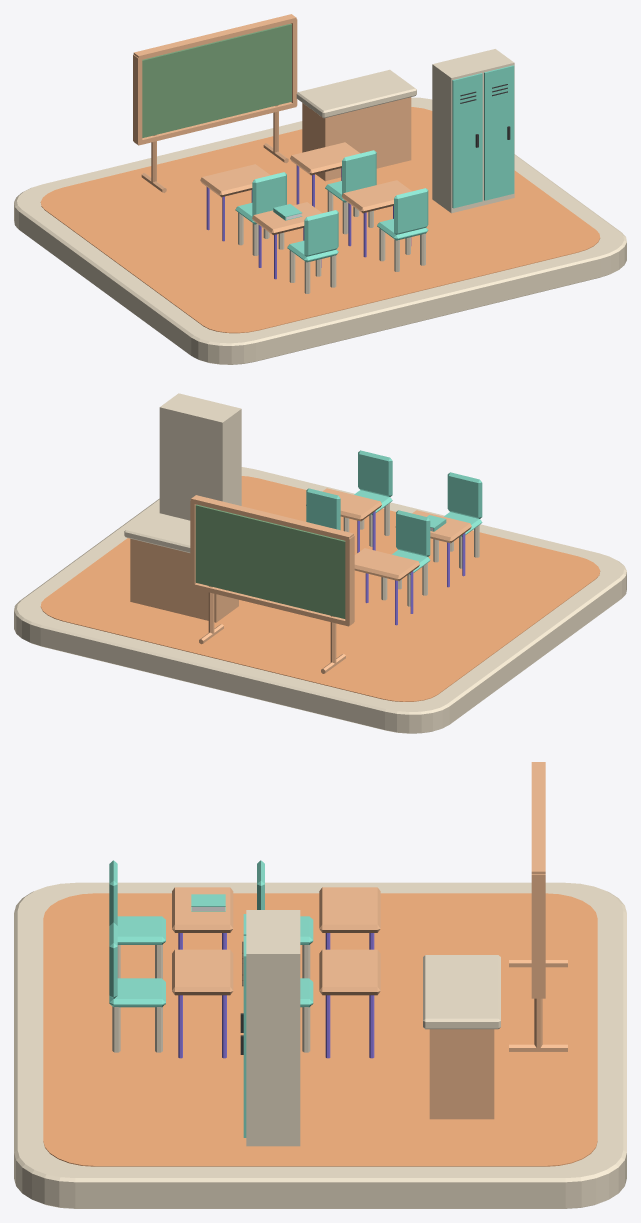
The picture shows the model from 3 angles, top to bottom: view 1: azimuth 30°, elevation 25°; view 2: azimuth 150°, elevation 25°; view 3: azimuth 270°, elevation 25°; orthographic projection. The views are drawn at different scales.
Parts seen in each view (by area): view 1: COM-02 Floor Surface, COM-01 Rounded Base Direct, Board, Desk body, Case, Door.001, Door, Desk top, Rail.001, Backrest, Backrest.001, Rounded table top.002 (+8 smaller); view 2: COM-02 Floor Surface, COM-01 Rounded Base Direct, Board, Case, Desk body, Desk top, Rail.001, Backrest, Rounded table top.002, Backrest.001, Backrest.002, Backrest.003 (+5 smaller); view 3: COM-02 Floor Surface, COM-01 Rounded Base Direct, Case, Desk body, Desk top, Rounded table top.003, Rounded table top.001, Rounded table top.002, Rounded table top, Frame.001, Rail.001, Seat.001 (+3 smaller).
Boxes of the visible parts, x1,y1,x2,y2 form: COM-02 Floor Surface: (40,107,600,333); COM-01 Rounded Base Direct: (14,97,626,364); Board: (142,23,291,137); Desk body: (302,97,411,181); Case: (432,49,514,213); Door.001: (484,65,514,200); Door: (452,73,482,208); Desk top: (296,69,416,118); Rail.001: (133,14,296,60); Backrest: (304,210,338,256); Backrest.001: (394,188,428,234); Rounded table top.002: (200,164,270,197); COM-02 Floor Surface: (40,476,600,701); COM-01 Rounded Base Direct: (14,467,626,733); Board: (195,504,345,618); Case: (159,393,241,520); Desk body: (130,538,238,622); Desk top: (124,511,190,552); Rail.001: (191,495,353,540); Backrest: (447,472,482,518); Rounded table top.002: (354,548,419,580); Backrest.001: (358,450,392,496); Backrest.002: (396,510,430,556); Backrest.003: (306,488,340,530); COM-02 Floor Surface: (43,893,597,1166); COM-01 Rounded Base Direct: (14,882,626,1208); Case: (246,910,300,1146); Desk body: (429,1029,494,1119); Desk top: (423,955,500,1029); Rounded table top.003: (319,949,380,995); Rounded table top.001: (172,949,233,995); Rounded table top.002: (319,887,380,932); Rounded table top: (172,887,233,932); Frame.001: (531,874,545,997); Rail.001: (531,762,545,874); Seat.001: (109,978,165,1007).
Bounding box in the file's own units: 6 × 2.1 × 5.2.
1 material, 1 textured.
